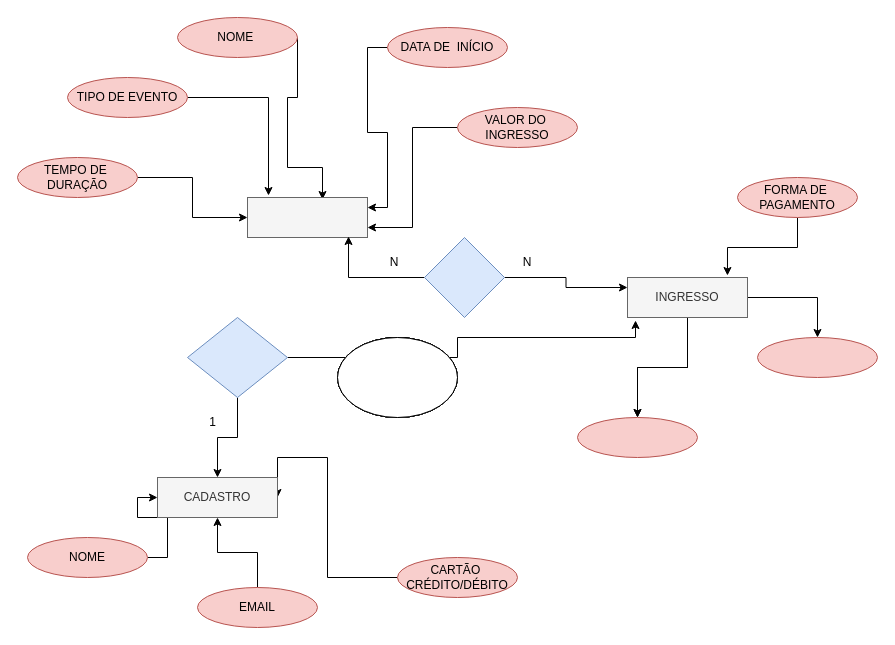
Some shapes in this 895 by 645 pixel diagram are drawn without their labels. The centre of each missing label's shape, as x and y in pixels:
COMPRA: point 237,357
DATA DE COMPRA: point 817,357
DATA DO EVENTO: point 637,437
EVENTO: point 307,217
VENDAS: point 464,277
